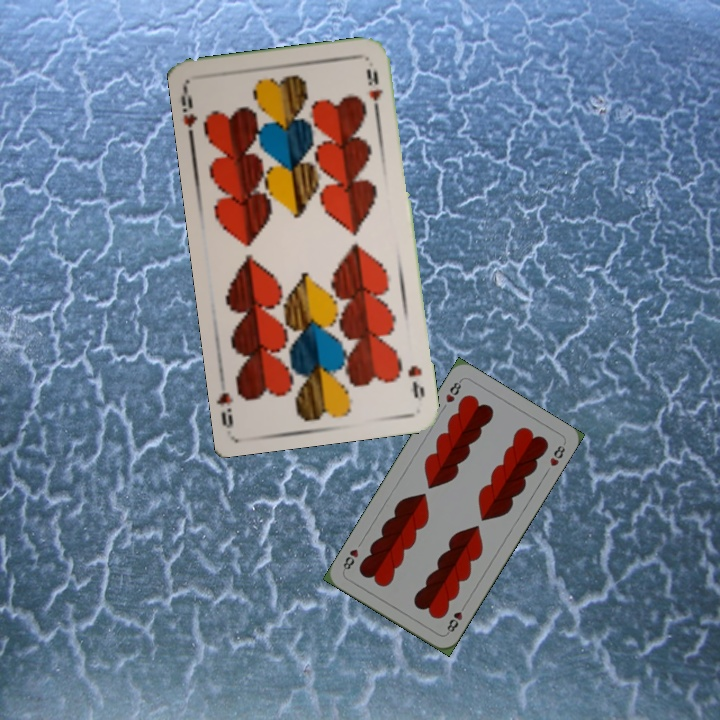H8: (443, 600, 469, 636), (441, 376, 464, 405)
H9: (177, 84, 200, 143), (404, 361, 427, 401)
